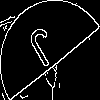J: (25, 25, 65, 77)
